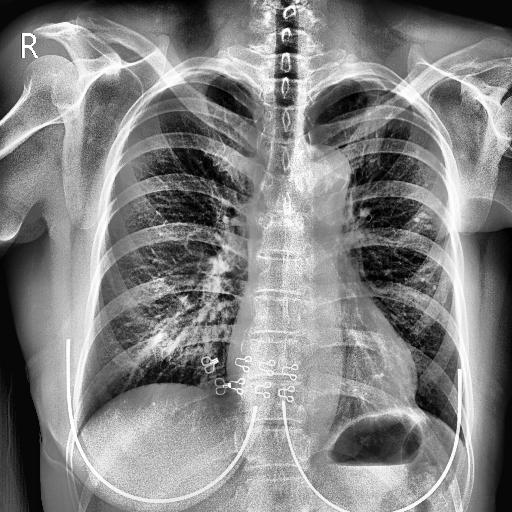0- Aortic enlargement: (297, 142, 352, 224), (290, 144, 352, 208), (306, 144, 350, 192)
11- Pleural thickening: (182, 66, 250, 84), (318, 72, 383, 84)
13- Pulmonary fibrosis: (410, 198, 444, 231)
8- Nodule-Mass: (410, 198, 444, 231), (414, 210, 436, 230)
